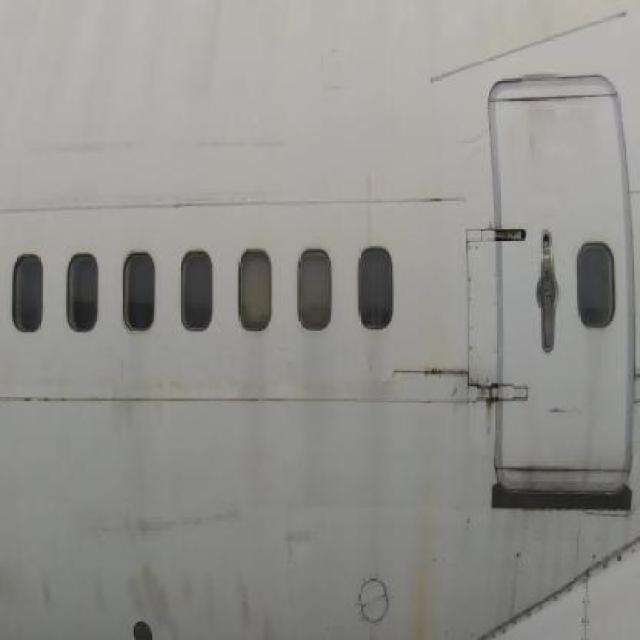Missing-Rivet: (478, 538, 636, 638)
Rust: (396, 419, 464, 639), (417, 254, 458, 374)
Scartch: (79, 558, 278, 640), (97, 492, 248, 556), (2, 120, 148, 180), (170, 120, 292, 172), (0, 552, 57, 628), (282, 512, 322, 596), (360, 164, 385, 251)
